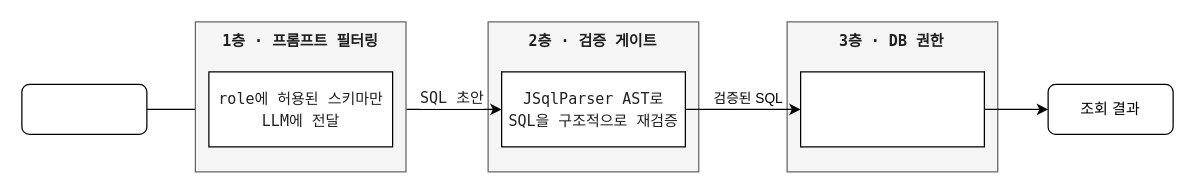
Some shapes in this 1195 by 194 pixel diagram are drawn without their labels. Here are the shapes that lost their labels. From the top down, the centre of each, then its label:
At point (84, 108): "자연어 질문".
At point (891, 109): "읽기 전용 계정 허용 테이블만 SELECT".
